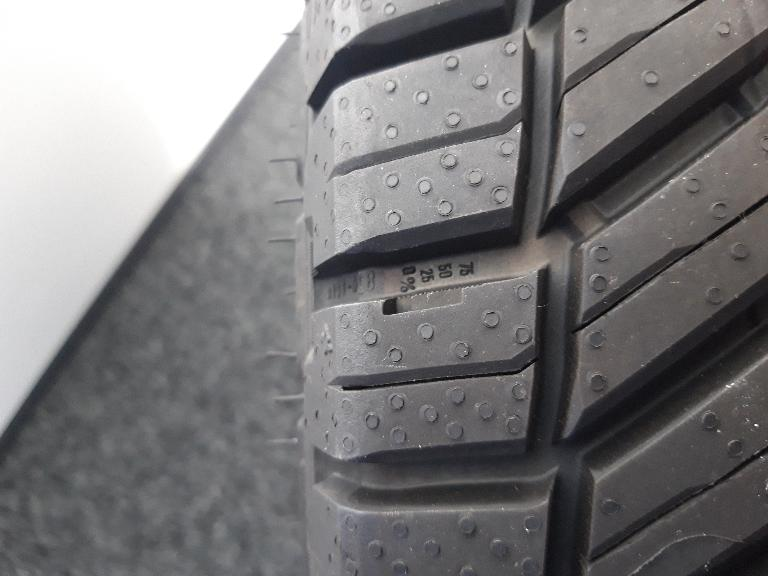temoin:100: (377, 280, 486, 320)
